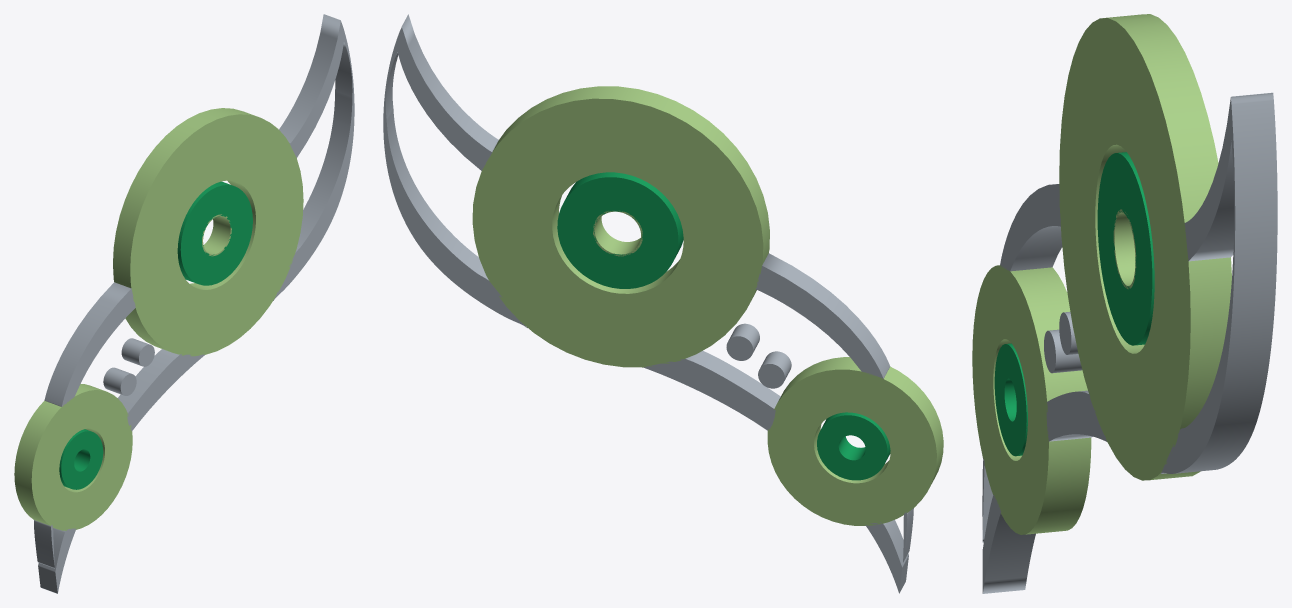
The picture shows the model from 3 angles, left to right: view 1: azimuth 30°, elevation 25°; view 2: azimuth 150°, elevation 25°; view 3: azimuth 270°, elevation 25°; orthographic projection. The views are drawn at different scales.
Parts seen in each view (by area): view 1: path16, path26, path5, path20, path7, path9, path30, path1, path14, path3, path24, path11; view 2: path16, path26, path5, path20, path7, path9, path30, path1, path14, path24, path11; view 3: path16, path5, path26, path20, path7, path1, path30, path9, path14, path24, path11, path3.
Boxes of the visible parts, x1,y1,x2,y2 form: path16: [113, 108, 303, 356]; path26: [14, 384, 132, 530]; path5: [273, 14, 354, 300]; path20: [177, 181, 252, 285]; path7: [44, 282, 135, 406]; path9: [118, 349, 204, 430]; path30: [59, 429, 103, 489]; path1: [38, 528, 76, 593]; path14: [202, 214, 231, 256]; path3: [34, 520, 54, 568]; path24: [103, 367, 136, 395]; path11: [121, 338, 154, 366]; path16: [472, 86, 769, 367]; path26: [767, 357, 943, 525]; path5: [383, 14, 527, 327]; path20: [557, 172, 683, 288]; path7: [755, 253, 890, 378]; path9: [644, 351, 780, 430]; path30: [817, 412, 890, 480]; path1: [865, 520, 908, 593]; path14: [593, 210, 642, 256]; path24: [758, 351, 791, 388]; path11: [726, 323, 759, 360]; path16: [1059, 14, 1231, 480]; path5: [1161, 92, 1277, 473]; path26: [972, 265, 1091, 534]; path20: [1097, 152, 1154, 345]; path7: [1000, 184, 1062, 271]; path1: [982, 495, 1035, 593]; path30: [994, 343, 1027, 456]; path9: [1046, 390, 1106, 441]; path14: [1113, 209, 1136, 289]; path24: [1044, 329, 1082, 373]; path11: [1059, 312, 1078, 354]; path3: [982, 457, 993, 542].
Size of the model in its own units: 19.31 by 20.33 by 6.9.
